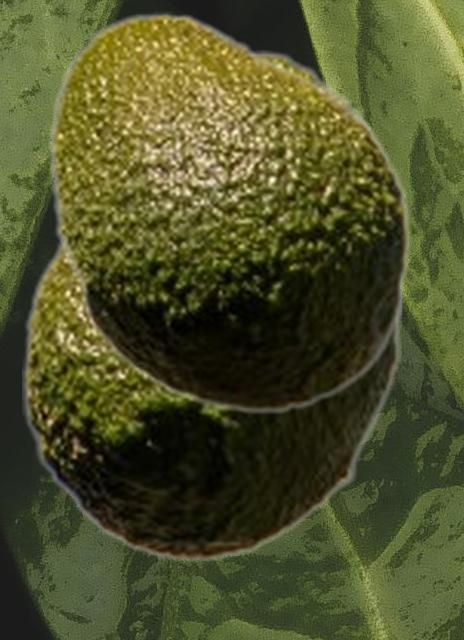avocado: (22, 50, 400, 563), (47, 11, 411, 415)
